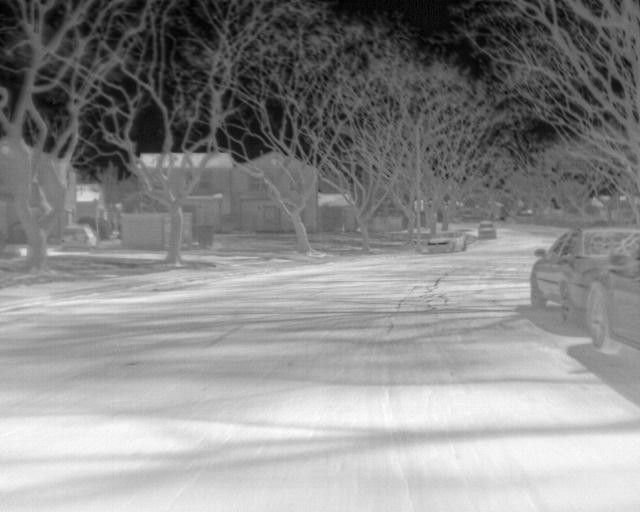car: (530, 226, 613, 316), (582, 233, 637, 355), (60, 224, 98, 252), (422, 228, 466, 252), (478, 220, 496, 238)
